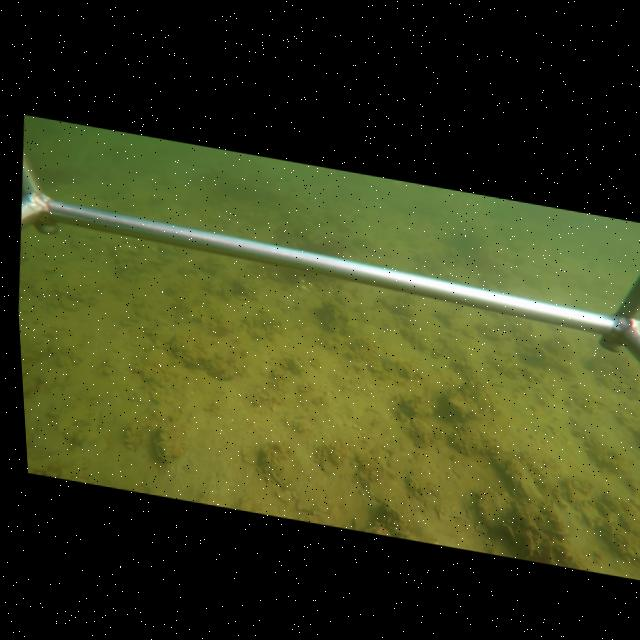Oyster-Closed: (504, 457, 548, 510)
